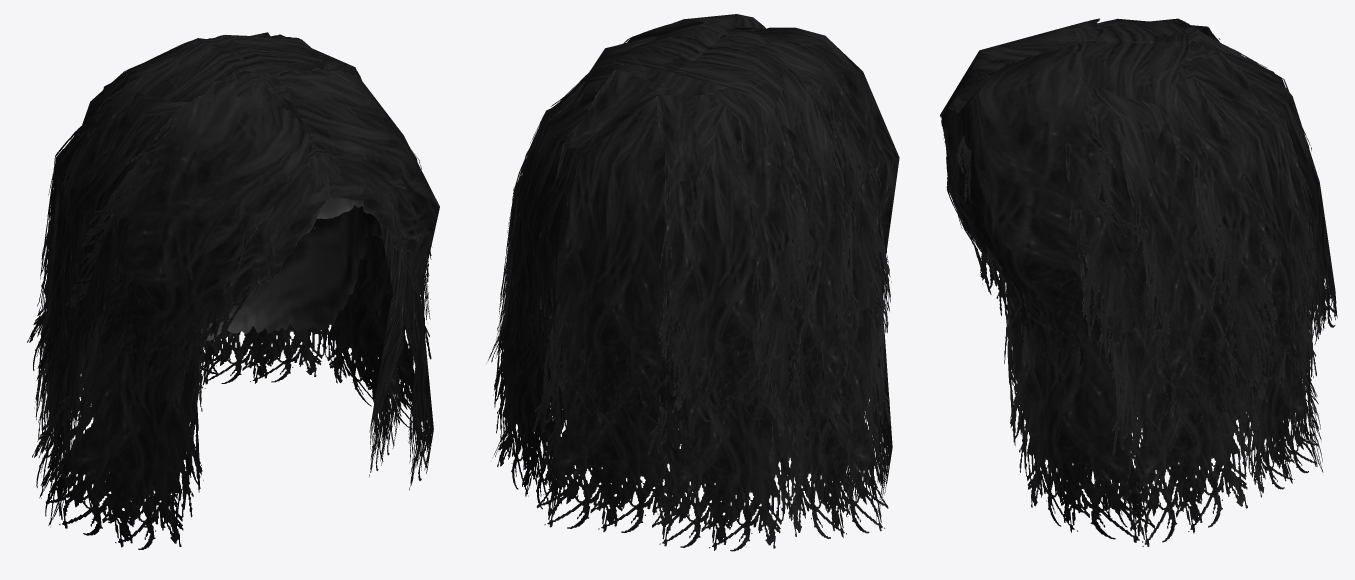
File: hair_004.fbx
3 views of the same model, side by side, from view 1: azimuth 30°, elevation 25°; view 2: azimuth 150°, elevation 25°; view 3: azimuth 270°, elevation 25° (orthographic). The views are drawn at different scales.
Visible parts, largest first — view 1: hair_004; view 2: hair_004; view 3: hair_004.
Boxes of the visible parts, x1,y1,x2,y2 form: hair_004: (27,32,439,549); hair_004: (488,14,899,551); hair_004: (940,18,1337,546).
Size of the model in its own units: 26.2 by 28.43 by 24.06.
